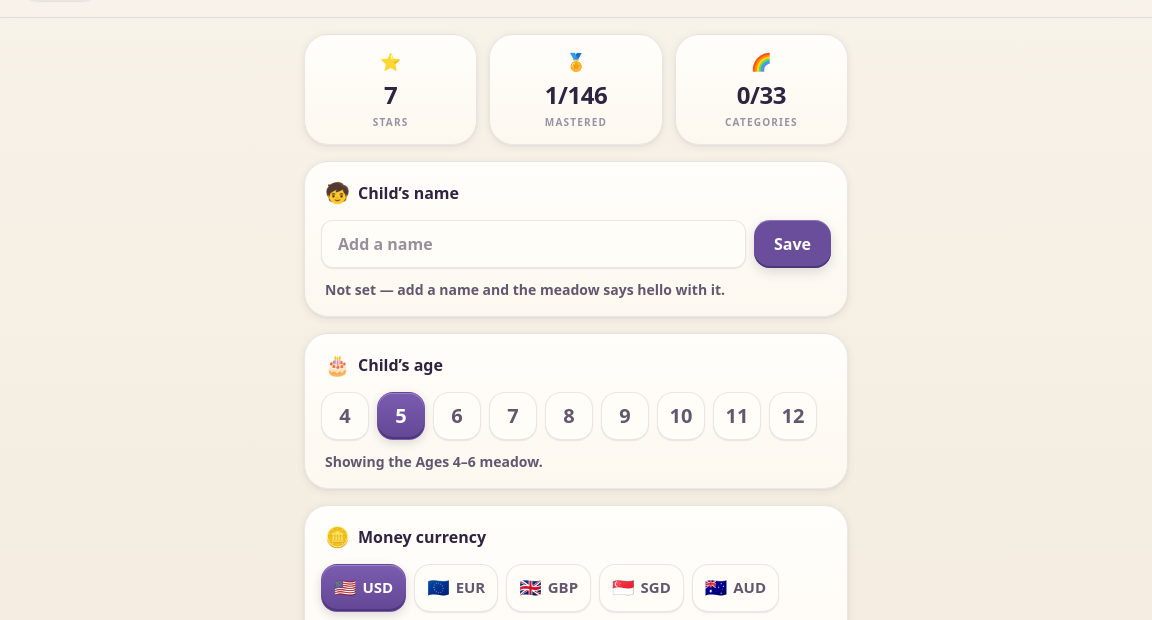
ParentView › offers the currency picker and reflects the choice
Click the button "🇬🇧 GBP" at (549, 588), box [506,564,591,612]
(page scrolled)
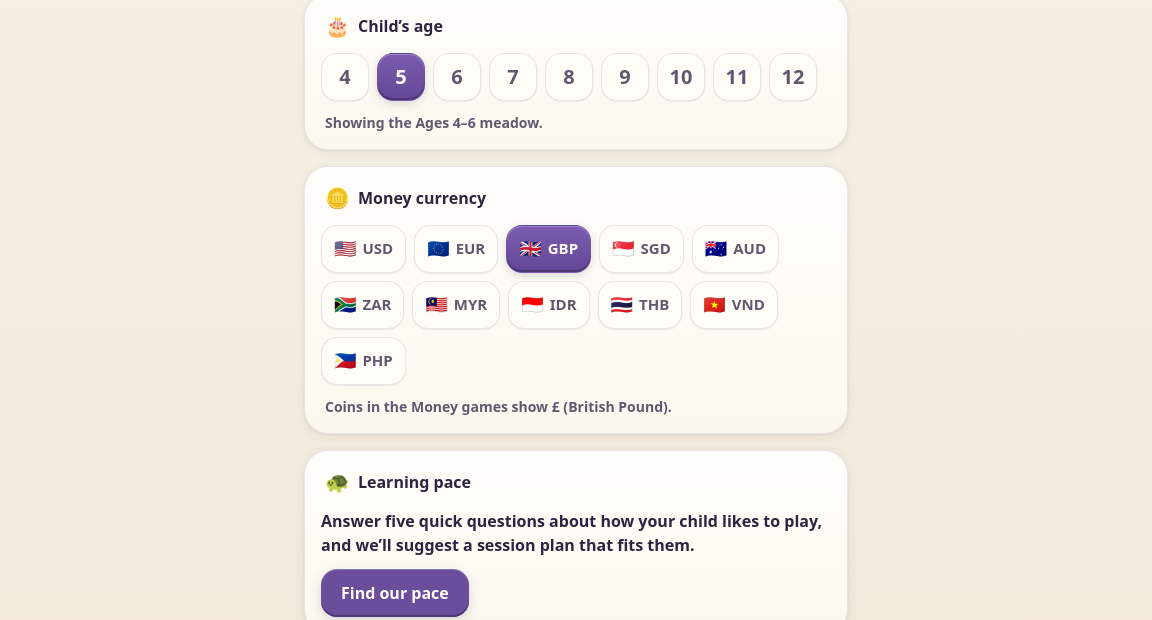
Expected: the text "£" is shown, [552,396,560,416]
Click the button "🇹🇭 THB" at (640, 304), box [598,280,682,328]
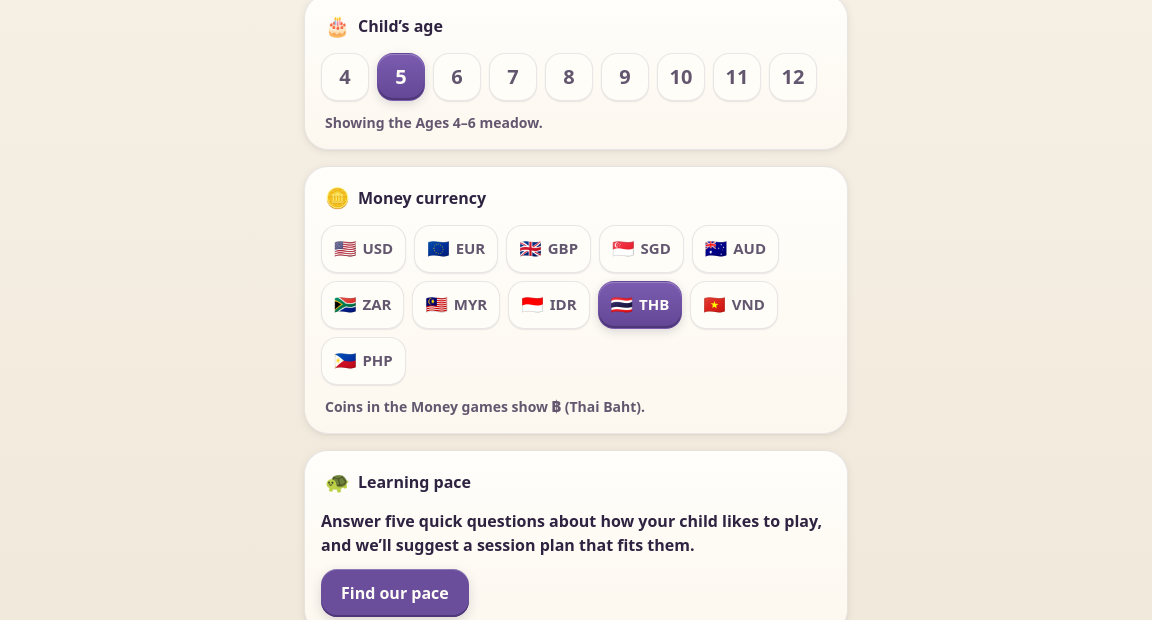
Expected: the text "฿" is shown, [552,396,561,416]
